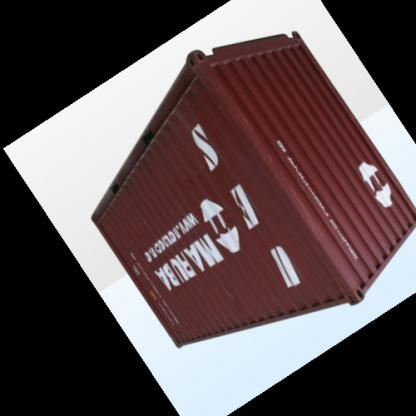Damage: (171, 162, 211, 192), (216, 279, 242, 317)
